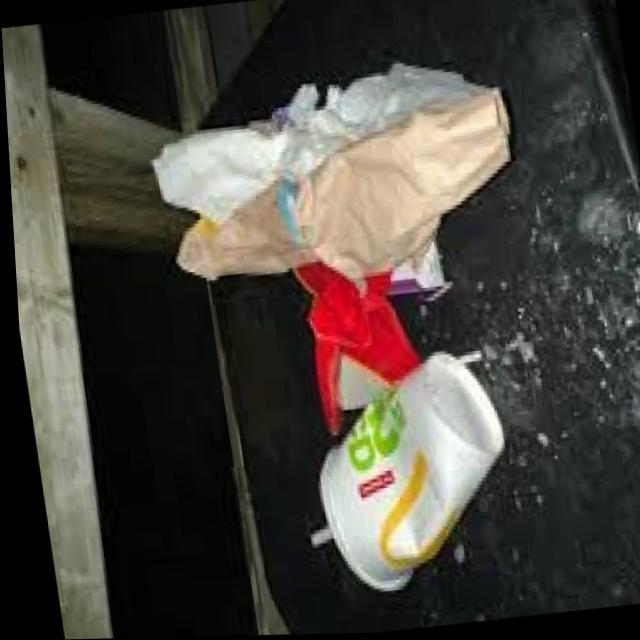trash: (70, 44, 542, 327), (222, 338, 560, 605), (243, 232, 444, 463)
